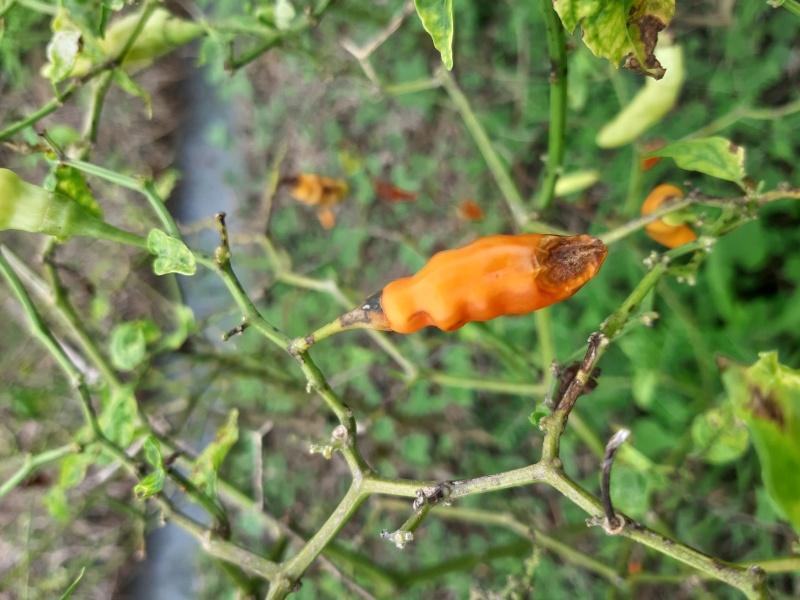antraknosa: (383, 234, 610, 336)
